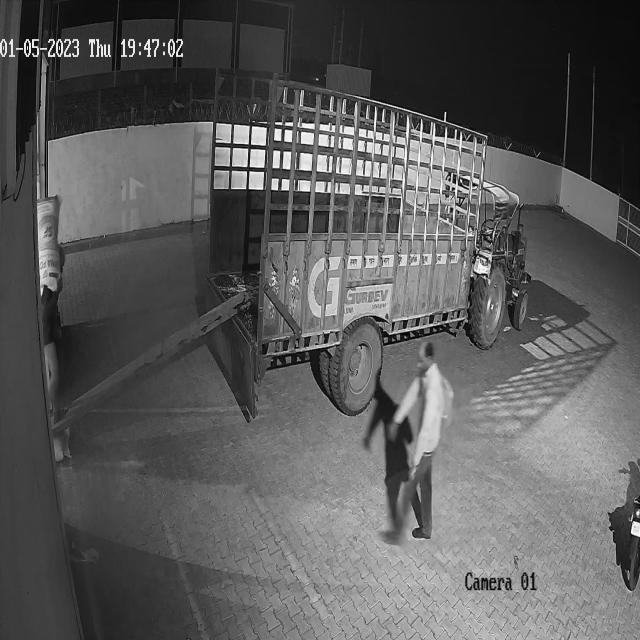sack: (37, 196, 62, 296)
